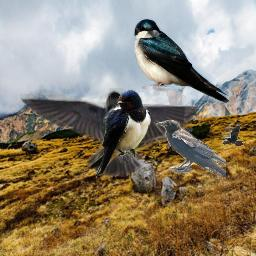Crow: (156, 120, 226, 176), (222, 124, 243, 146)
Swallow: (15, 88, 200, 177), (133, 18, 231, 105), (88, 89, 151, 178)
